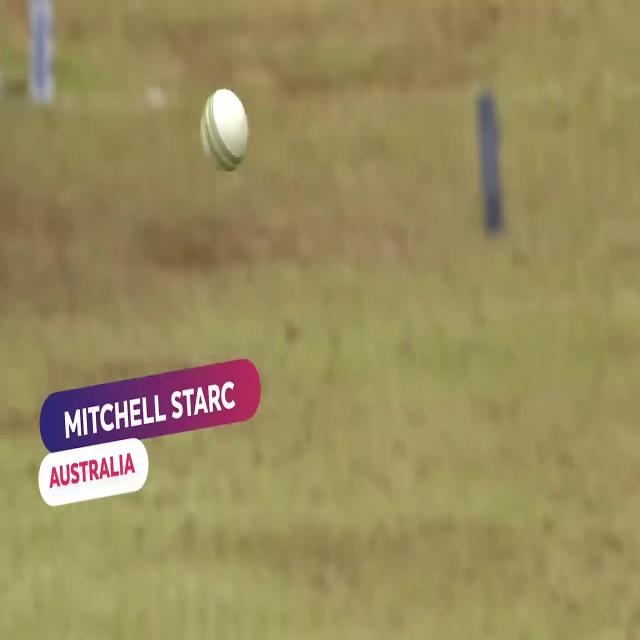ball: (196, 80, 258, 181)
